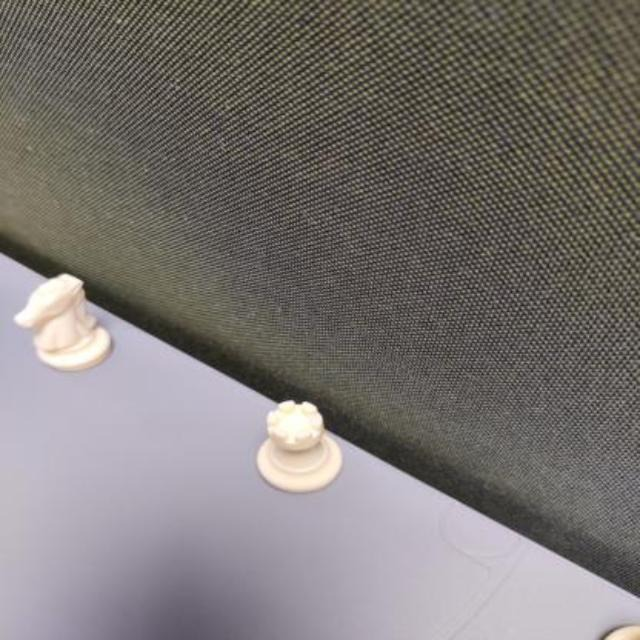white-knight: (16, 266, 116, 372)
white-rook: (253, 397, 345, 495)
